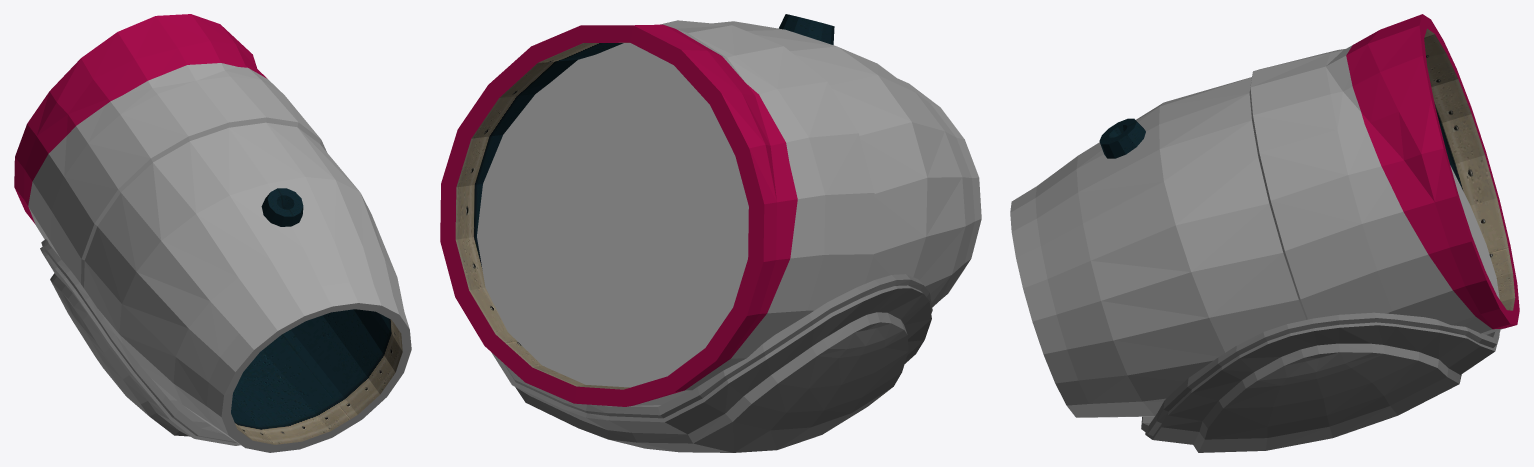
File: turret.glb
3 renders of one model, left to right at view 1: azimuth 30°, elevation 25°; view 2: azimuth 150°, elevation 25°; view 3: azimuth 270°, elevation 25°, orthographic. The views are drawn at different scales.
Size of the model in its own units: 0.0795 by 0.0938 by 0.1088.
Materials: 1 (1 with a texture image).
